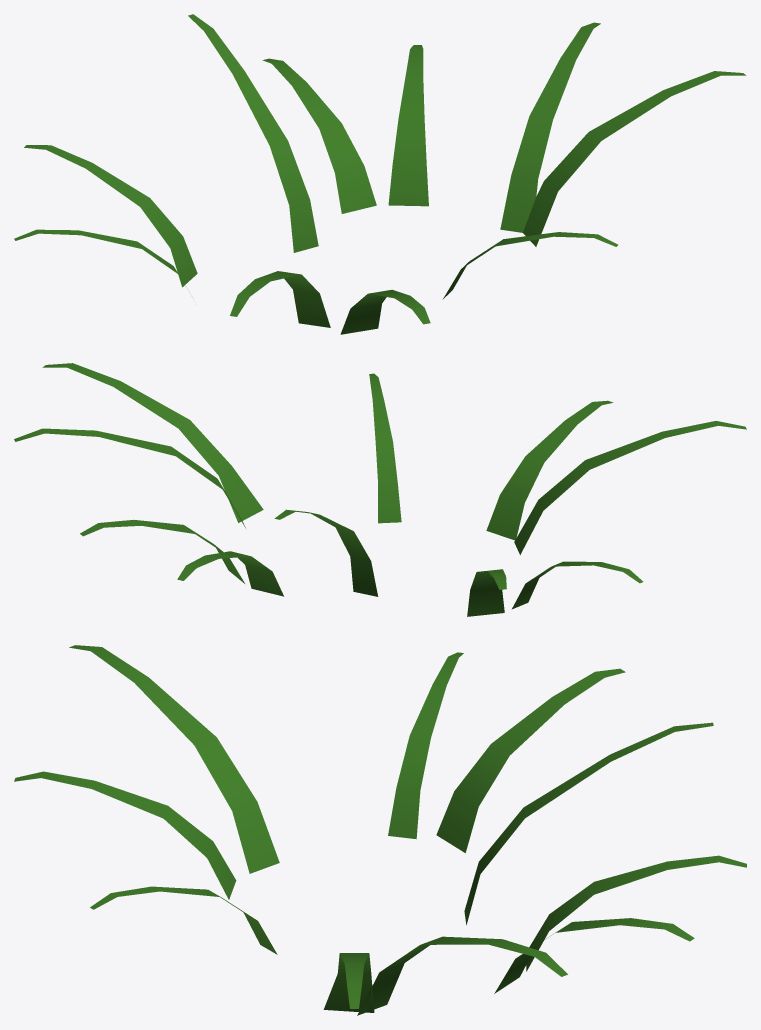
File: model_mato1_01.fbx
3 renders of one model, top to bottom at view 1: azimuth 30°, elevation 25°; view 2: azimuth 150°, elevation 25°; view 3: azimuth 270°, elevation 25°, orthographic. The views are drawn at different scales.
Visible parts, largest first — view 1: Plane.031; view 2: Plane.031; view 3: Plane.031.
Part boxes in pixels (x1,y1,x2,y2): Plane.031: (14, 14, 746, 334); Plane.031: (14, 363, 746, 616); Plane.031: (14, 645, 746, 1015).
Size of the model in its own units: 3.04 by 0.6792 by 2.4.
